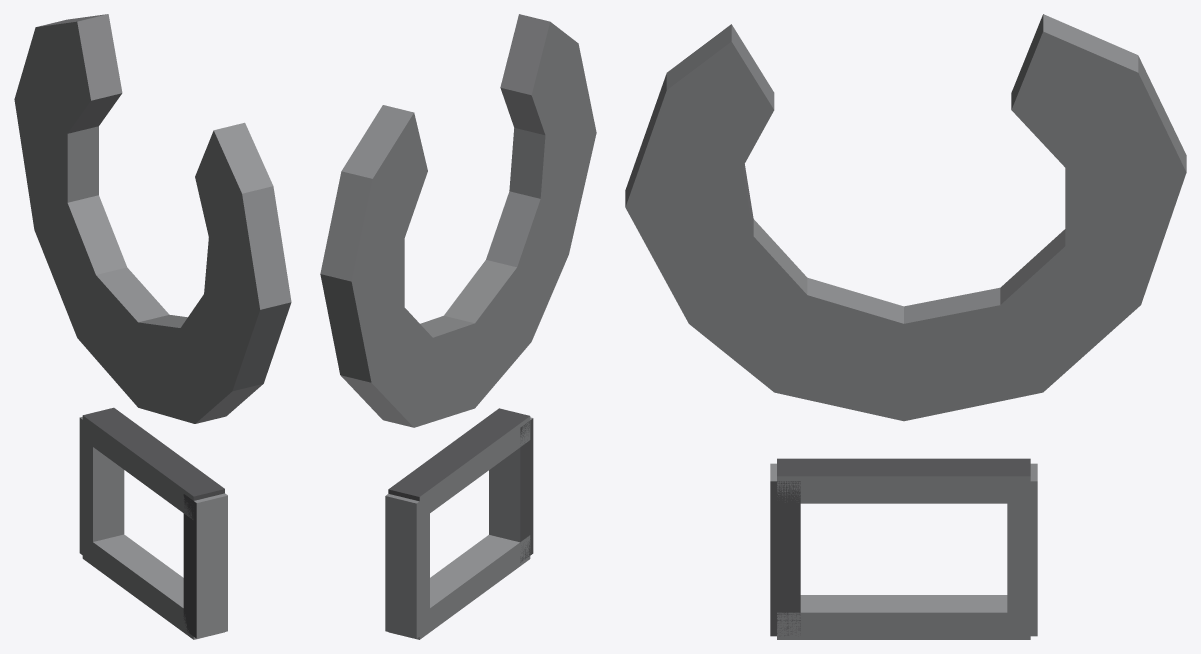
The picture shows the model from 3 angles, left to right: view 1: azimuth 30°, elevation 25°; view 2: azimuth 150°, elevation 25°; view 3: azimuth 270°, elevation 25°; orthographic projection. The views are drawn at different scales.
Bounding box in the file's own units: 0.03 × 0.487 × 0.407.
